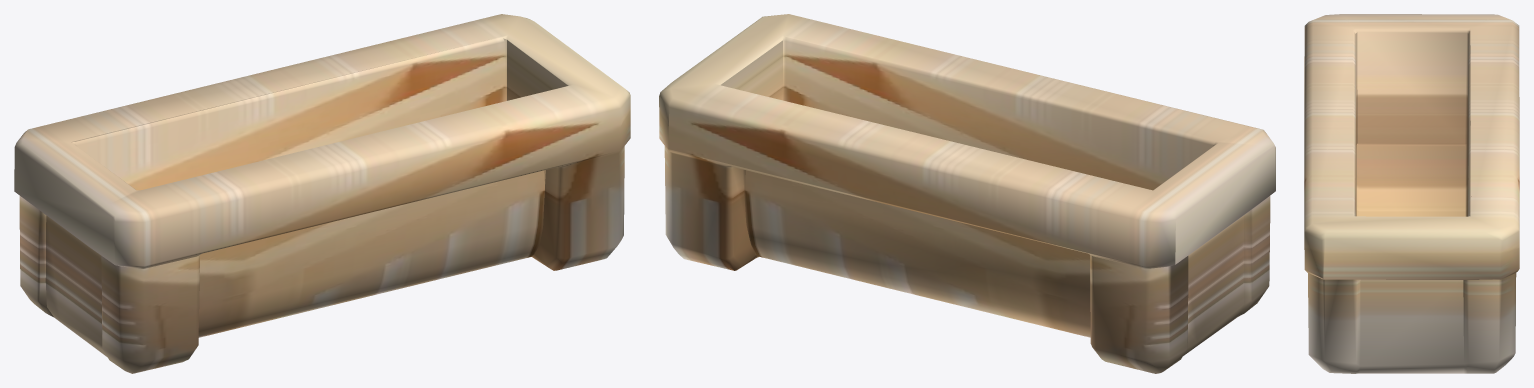
The picture shows the model from 3 angles, left to right: view 1: azimuth 30°, elevation 25°; view 2: azimuth 150°, elevation 25°; view 3: azimuth 270°, elevation 25°; orthographic projection. The views are drawn at different scales.
Visible parts, largest first — view 1: Decor_water_trough; view 2: Decor_water_trough; view 3: Decor_water_trough.
Part boxes in pixels (box(x1,y1,x2,y2)): Decor_water_trough: box(14, 14, 630, 373); Decor_water_trough: box(659, 14, 1275, 373); Decor_water_trough: box(1304, 14, 1519, 373).
Size of the model in its own units: 1.91 by 0.598 by 0.7825.
1 material, 1 textured.
